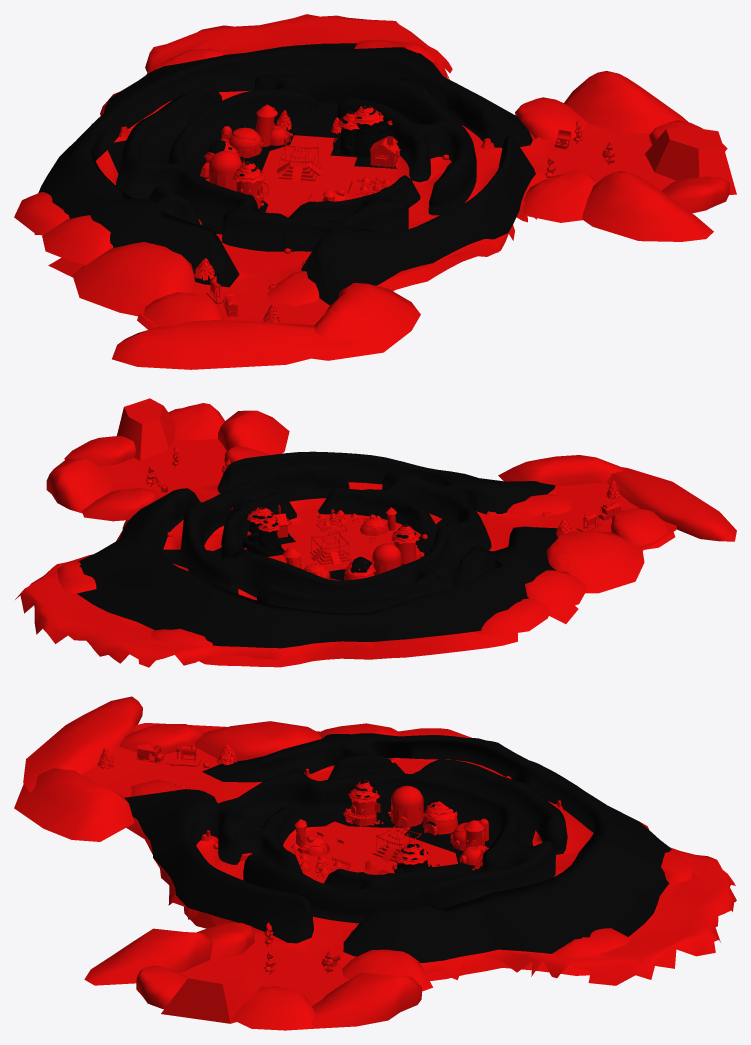
File: Individual_WhisperingHollow_03.glb
The picture shows the model from 3 angles, top to bottom: view 1: azimuth 30°, elevation 25°; view 2: azimuth 150°, elevation 25°; view 3: azimuth 270°, elevation 25°; orthographic projection. The views are drawn at different scales.
Visible parts, largest first — view 1: polySurface1, pasted__SnowPatch13, pasted__SnowPatch12, pasted__SnowPatch16, pasted__SnowPatch14, pasted__SnowPatch8, pasted__Object_IceRock3, pasted__SnowPatch9, pasted__SnowPatch3, pasted__SnowPatch11, pasted__SnowPatch10, polySurface119 (+11 smaller); view 2: polySurface1, polySurface3, pasted__SnowPatch12, pasted__SnowPatch13, pasted__SnowPatch14, pasted__SnowPatch8, pasted__Object_IceRock3, pasted__SnowPatch16, pasted__SnowPatch3, pasted__SnowPatch11, pasted__SnowPatch10, pasted__SnowPatch4 (+11 smaller); view 3: polySurface1, pasted__SnowPatch14, pasted__SnowPatch13, pasted__SnowPatch8, pasted__SnowPatch16, pasted__Object_IceRock3, pasted__SnowPatch12, pasted__SnowPatch15, pasted__SnowPatch10, pasted__SnowPatch11, polySurface3, pasted__SnowPatch17 (+11 smaller).
Boxes of the visible parts, box(x1,y1,x2,y2) form: polySurface1: box(38, 14, 676, 354); pasted__SnowPatch13: box(112, 320, 359, 369); pasted__SnowPatch12: box(72, 242, 195, 316); pasted__SnowPatch16: box(582, 171, 713, 241); pasted__SnowPatch14: box(312, 283, 420, 360); pasted__SnowPatch8: box(564, 71, 688, 133); pasted__Object_IceRock3: box(645, 127, 736, 194); pasted__SnowPatch9: box(523, 170, 597, 222); pasted__SnowPatch3: box(42, 215, 113, 263); pasted__SnowPatch11: box(137, 292, 223, 329); pasted__SnowPatch10: box(515, 97, 587, 140); polySurface119: box(333, 104, 392, 156); polySurface1: box(15, 438, 677, 667); polySurface3: box(199, 508, 578, 667); pasted__SnowPatch12: box(546, 530, 644, 593); pasted__SnowPatch13: box(607, 467, 736, 541); pasted__SnowPatch14: box(498, 455, 624, 485); pasted__SnowPatch8: box(46, 458, 113, 513); pasted__Object_IceRock3: box(117, 398, 175, 460); pasted__SnowPatch16: box(218, 410, 289, 454); pasted__SnowPatch3: box(525, 570, 585, 611); pasted__SnowPatch11: box(611, 508, 675, 549); pasted__SnowPatch10: box(82, 488, 159, 521); pasted__SnowPatch4: box(475, 598, 550, 635); polySurface1: box(44, 723, 736, 1005); pasted__SnowPatch14: box(14, 768, 134, 841); pasted__SnowPatch13: box(23, 696, 142, 792); pasted__SnowPatch8: box(309, 972, 422, 1028); pasted__SnowPatch16: box(84, 928, 212, 985); pasted__Object_IceRock3: box(161, 962, 270, 1023); pasted__SnowPatch12: box(194, 721, 321, 761); pasted__SnowPatch15: box(231, 986, 315, 1030); pasted__SnowPatch10: box(342, 949, 432, 991); pasted__SnowPatch11: box(119, 724, 202, 754); polySurface3: box(126, 817, 590, 980); pasted__SnowPatch17: box(136, 965, 188, 1009).
Bounding box in the file's own units: 154 × 15.36 × 144.
